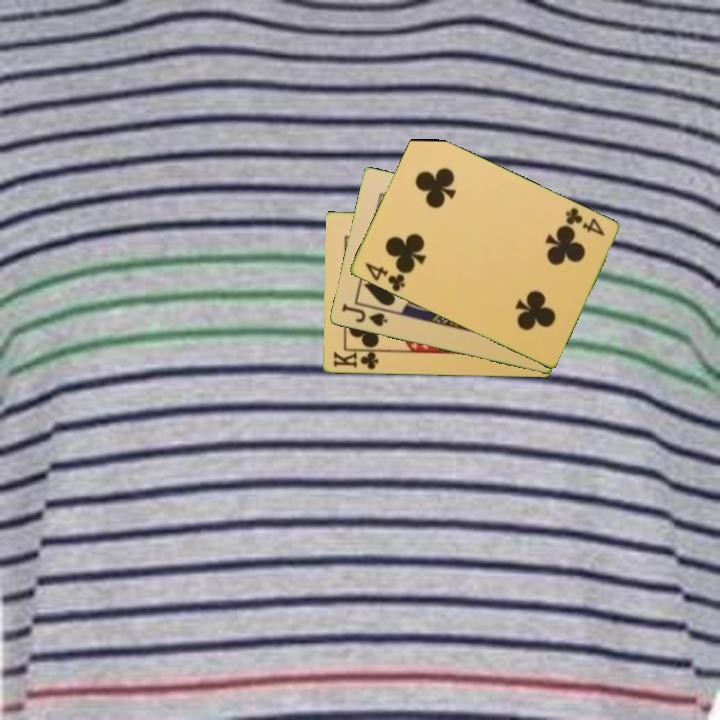4c: (361, 259, 409, 294), (561, 204, 607, 239)
Js: (338, 300, 390, 330)
Kc: (330, 347, 384, 373)
